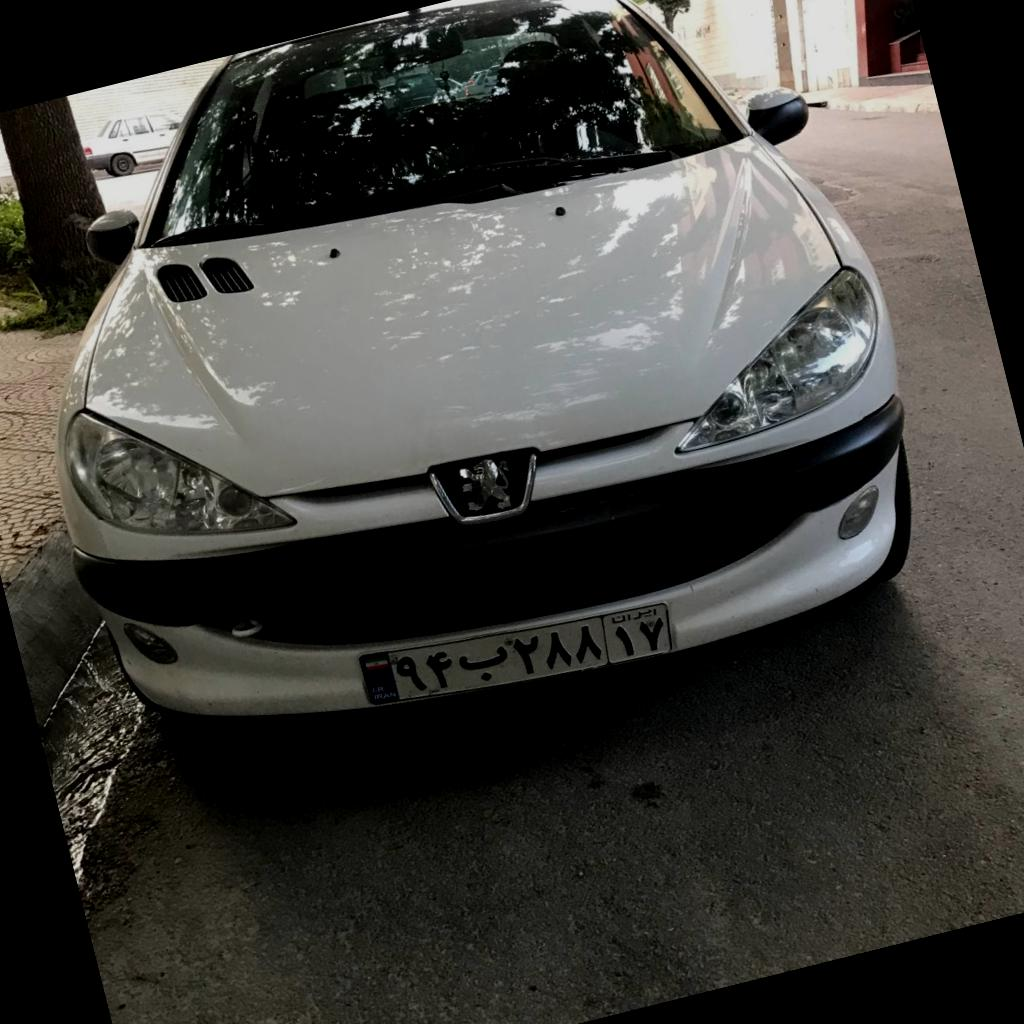Plates: (358, 603, 673, 705)
